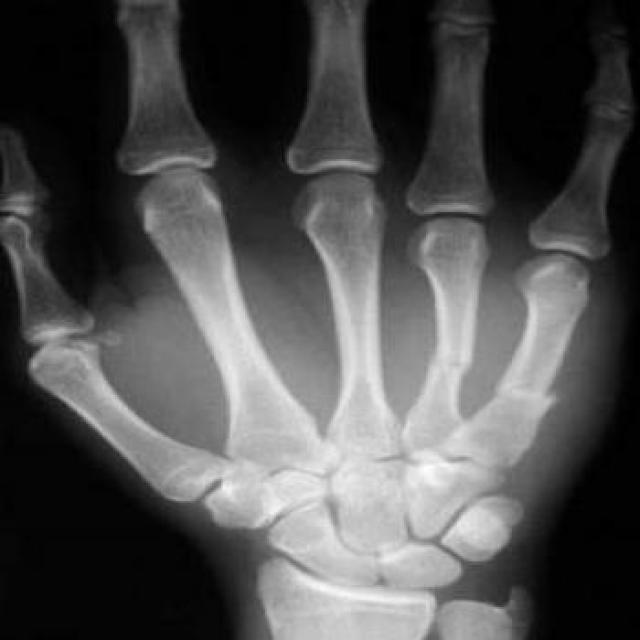fracture: (482, 372, 582, 416), (423, 340, 484, 377)
